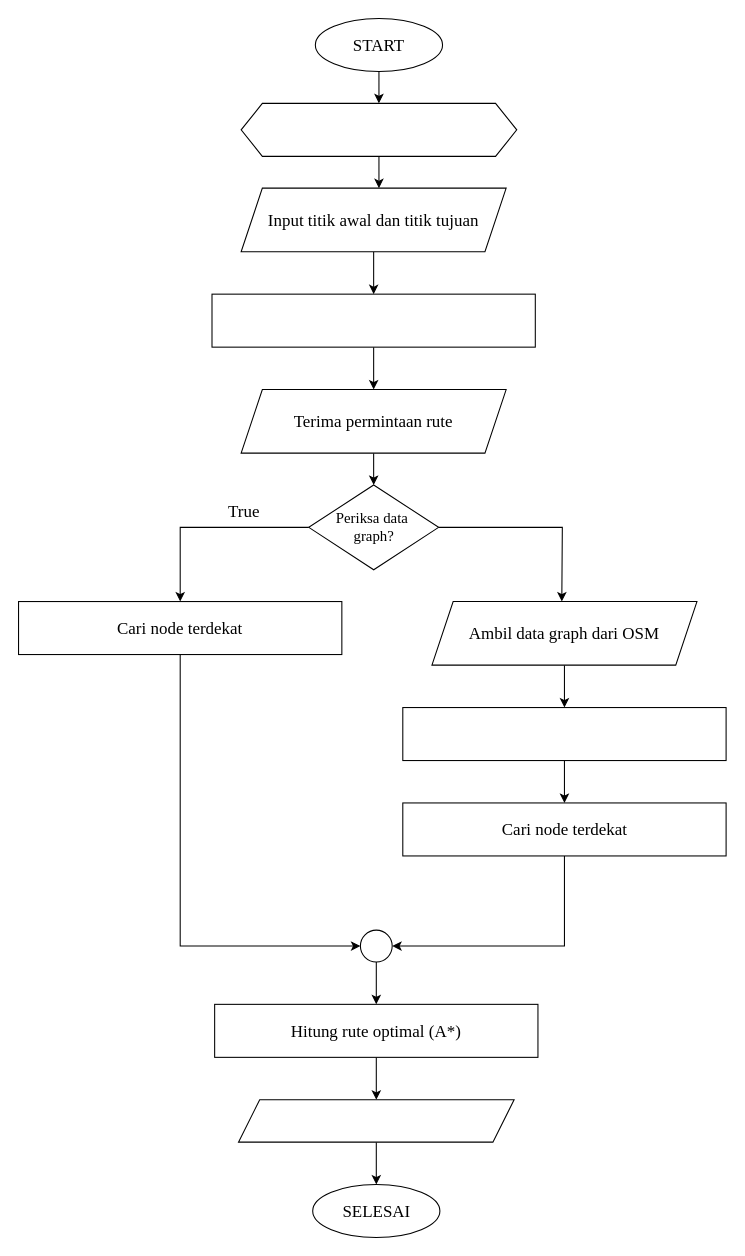
This 745x1256 diagram has some shape labels left out. Here are the shapes that lost their labels. From the top down, the centre of each, then its label:
At (x=378, y=129): "Inisiasi Flask APP".
At (x=373, y=320): "Proses titik awal dan titik tujuan".
At (x=564, y=733): "Muah graph ke sistem".
At (x=375, y=1120): "Rute terbaik (A*)".
